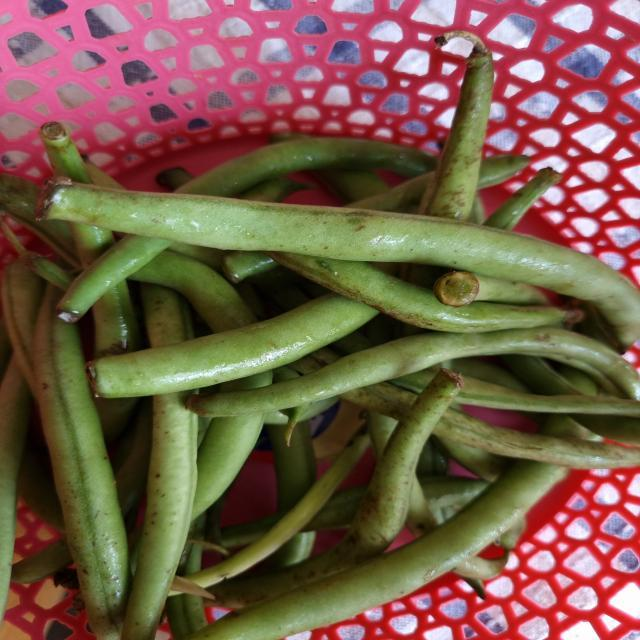Beans: (37, 179, 640, 342), (185, 461, 567, 640), (187, 327, 640, 417), (32, 285, 128, 640), (86, 292, 378, 398), (311, 369, 463, 565), (186, 434, 370, 589), (269, 252, 568, 333), (120, 392, 196, 640), (175, 137, 436, 197), (433, 408, 640, 470), (57, 235, 170, 322), (454, 376, 640, 418), (140, 284, 187, 347), (342, 383, 416, 420), (389, 370, 434, 393), (294, 356, 324, 371)
